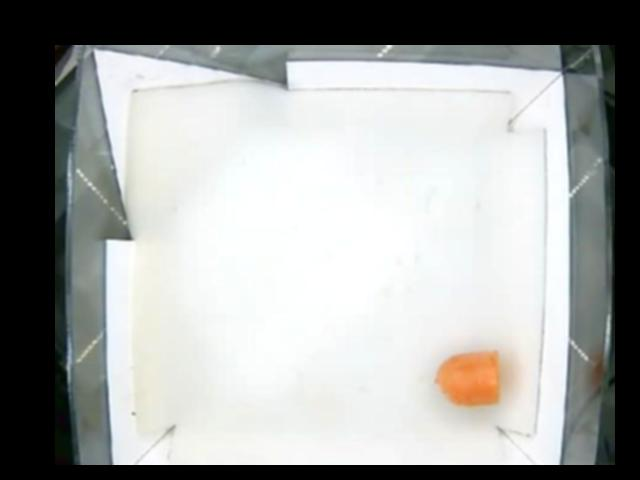Carrot: (436, 351, 503, 406)
